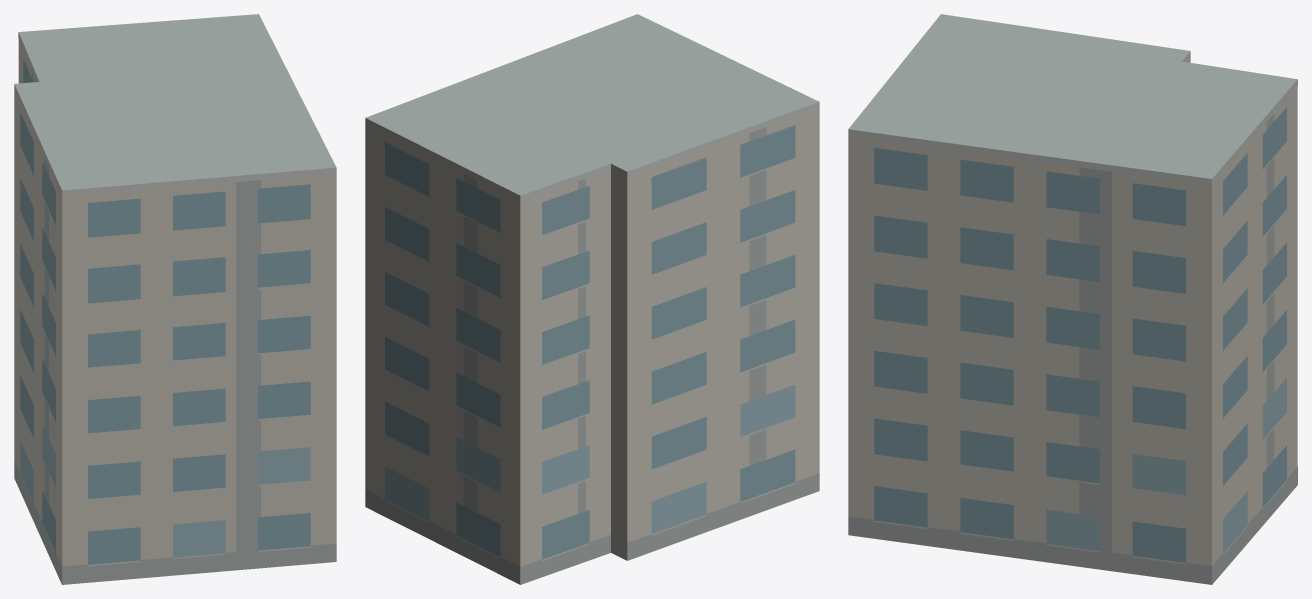
File: survey-upis-32949424.glb
3 views of the same model, side by side, from view 1: azimuth 30°, elevation 25°; view 2: azimuth 150°, elevation 25°; view 3: azimuth 270°, elevation 25° (orthographic). The views are drawn at different scales.
Parts seen in each view (by area): view 1: survey-upis-32949424.tmp; view 2: survey-upis-32949424.tmp; view 3: survey-upis-32949424.tmp.
Boxes of the visible parts, <box> form: survey-upis-32949424.tmp: <box>14,14,336,584</box>; survey-upis-32949424.tmp: <box>365,14,819,584</box>; survey-upis-32949424.tmp: <box>848,14,1297,584</box>.
Bounding box in the file's own units: 13.52 × 15.5 × 15.57.
